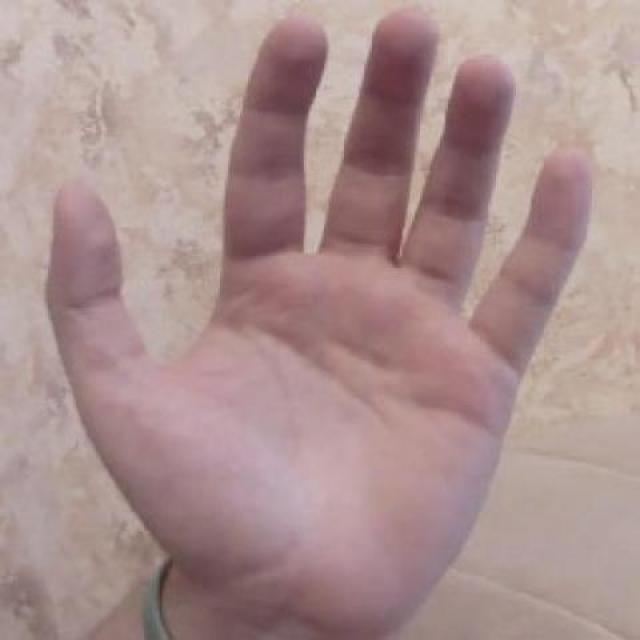Open Hand: (43, 4, 596, 640)
